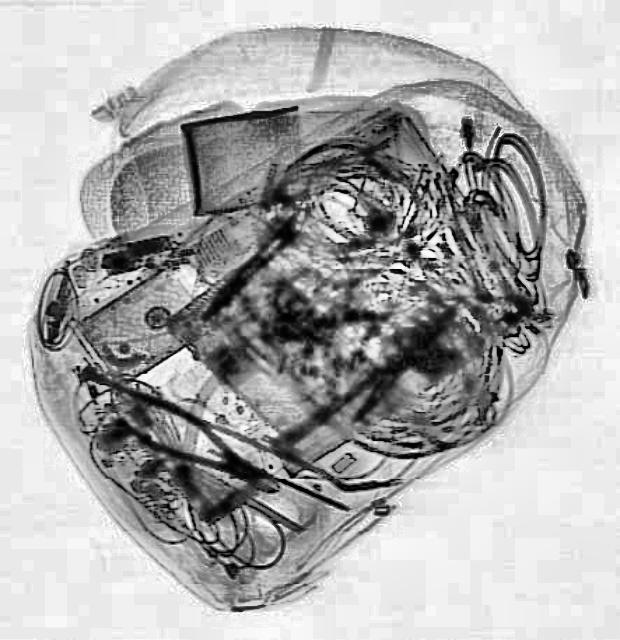Pliers: (112, 381, 292, 512)
